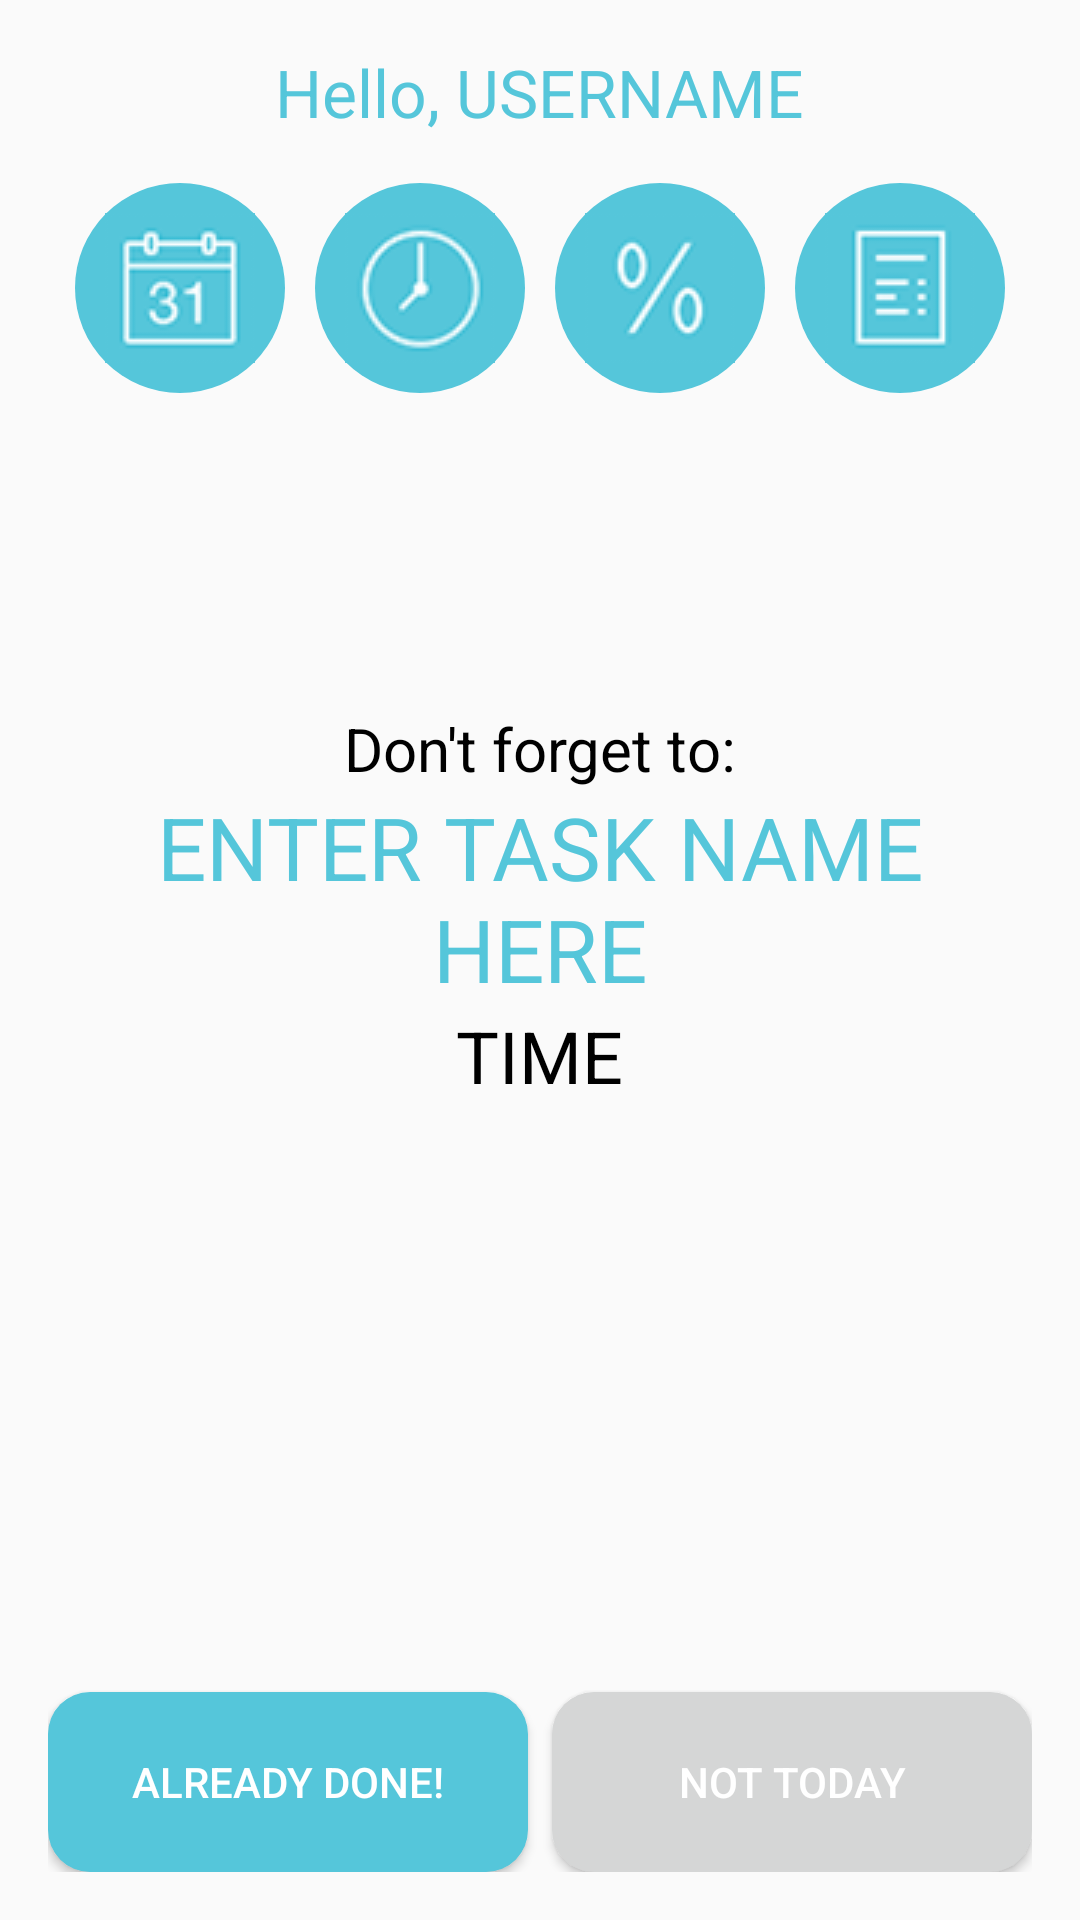

Icon bounding boxes for this 1080*1920 phone screenshot, format (x1, y1, x2, y2):
calendar: (75, 183, 285, 393)
clock: (315, 183, 525, 393)
note: (795, 183, 1005, 393)
stat: (555, 183, 765, 393)
